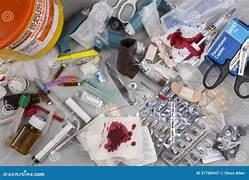Iv_Bottle: (11, 115, 45, 154)
